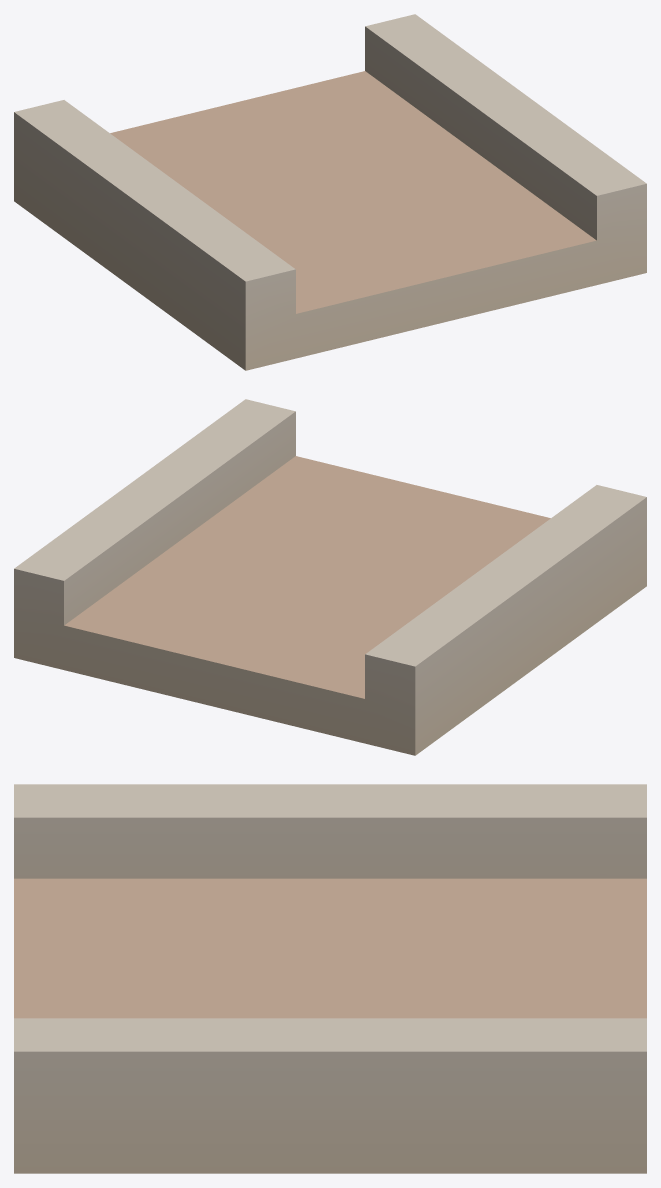
File: roof-flat-border-straight.glb
3 views of the same model, one above another, from view 1: azimuth 30°, elevation 25°; view 2: azimuth 150°, elevation 25°; view 3: azimuth 270°, elevation 25° (orthographic). The views are drawn at different scales.
Visible parts, largest first — view 1: roof-flat-border-straight; view 2: roof-flat-border-straight; view 3: roof-flat-border-straight.
Boxes of the visible parts, box(x1,y1,x2,y2) form: roof-flat-border-straight: box(14, 14, 646, 370); roof-flat-border-straight: box(14, 399, 646, 755); roof-flat-border-straight: box(14, 784, 646, 1173).
Size of the model in its own units: 1 by 0.2125 by 1.
